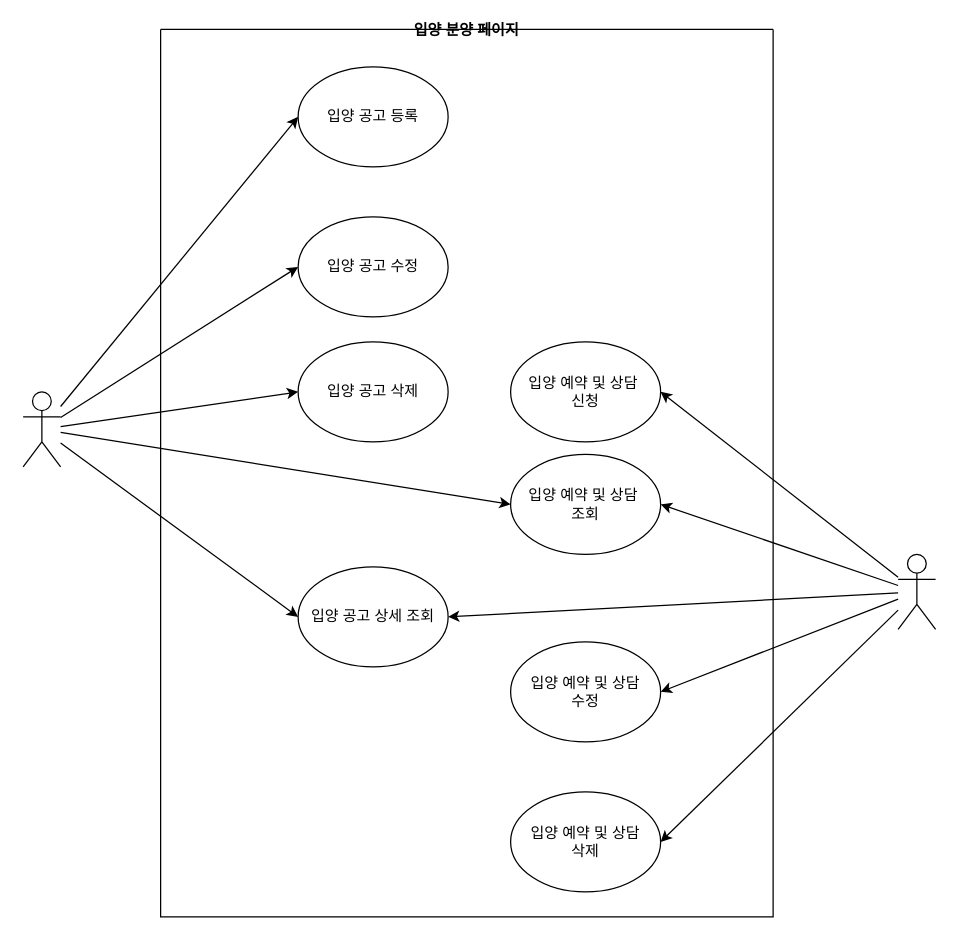
Image size: 958x939. Some labels were removed from this diagram. Each missing label, with the centre of its shape:
"관리자" belongs at point 41,429.
"유저" belongs at point 916,591.
